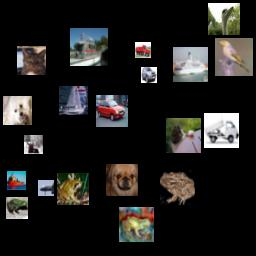airplane: (38, 180, 54, 196)
automobile: (96, 95, 128, 127), (141, 67, 157, 83)
bird: (215, 38, 253, 76), (208, 3, 240, 35)
cat: (166, 118, 201, 153), (17, 46, 46, 75)
deer: (24, 135, 43, 154)
dog: (106, 164, 138, 196), (3, 96, 32, 125)
frog: (160, 170, 195, 205), (119, 207, 154, 242), (57, 173, 89, 205), (6, 197, 28, 219)
ship: (70, 28, 108, 66), (173, 47, 208, 82), (59, 86, 88, 115), (7, 171, 26, 190)
truck: (204, 113, 239, 148), (135, 42, 151, 58)
